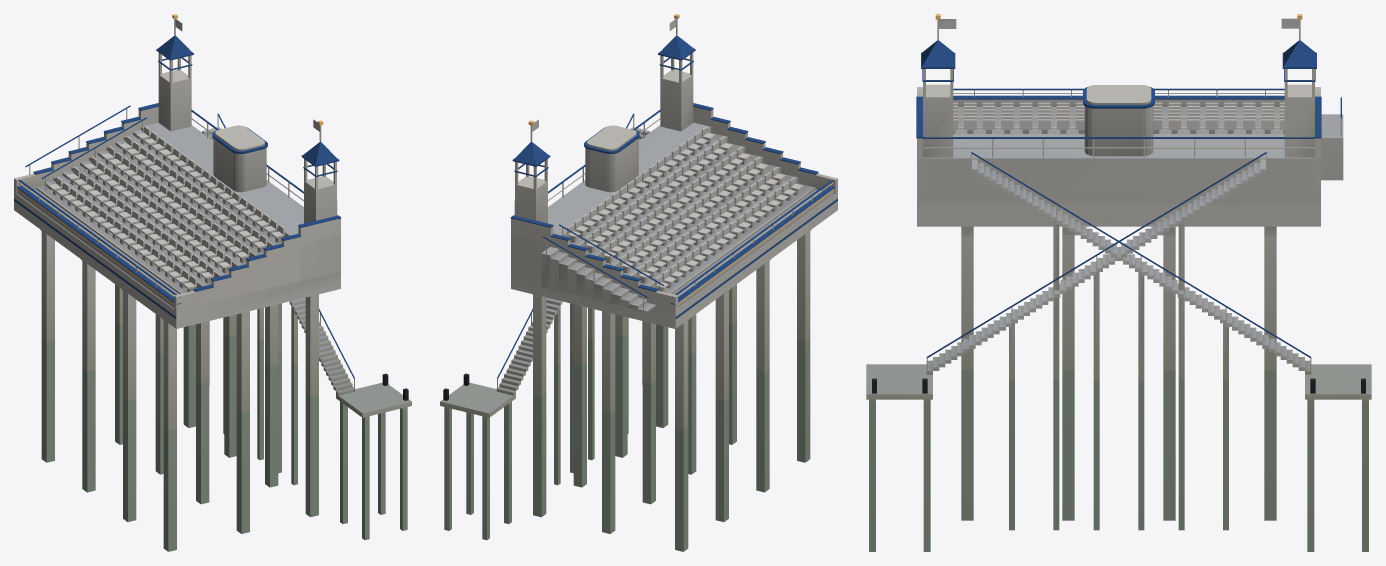
The model's file is aiquiz_stadium_stand_blocks.glb.
3 views of the same model, side by side, from view 1: azimuth 30°, elevation 25°; view 2: azimuth 150°, elevation 25°; view 3: azimuth 270°, elevation 25° (orthographic). The views are drawn at different scales.
Parts seen in each view (by area): view 1: AQS_Stand_Bay, AQS_Stand_CapStart, AQS_Stand_CapEnd; view 2: AQS_Stand_Bay, AQS_Stand_CapEnd, AQS_Stand_CapStart; view 3: AQS_Stand_Bay, AQS_Stand_CapStart, AQS_Stand_CapEnd.
Boxes of the visible parts, left/top/right/bottom form: AQS_Stand_Bay: left=14, top=105, right=340, bottom=551; AQS_Stand_CapStart: left=43, top=113, right=411, bottom=540; AQS_Stand_CapEnd: left=14, top=14, right=337, bottom=485; AQS_Stand_Bay: left=511, top=110, right=837, bottom=551; AQS_Stand_CapEnd: left=440, top=113, right=805, bottom=540; AQS_Stand_CapStart: left=514, top=14, right=837, bottom=485; AQS_Stand_Bay: left=917, top=85, right=1343, bottom=520; AQS_Stand_CapStart: left=866, top=14, right=1283, bottom=551; AQS_Stand_CapEnd: left=957, top=14, right=1371, bottom=551.
Bounding box in the file's own units: 15.3 × 27.35 × 25.
